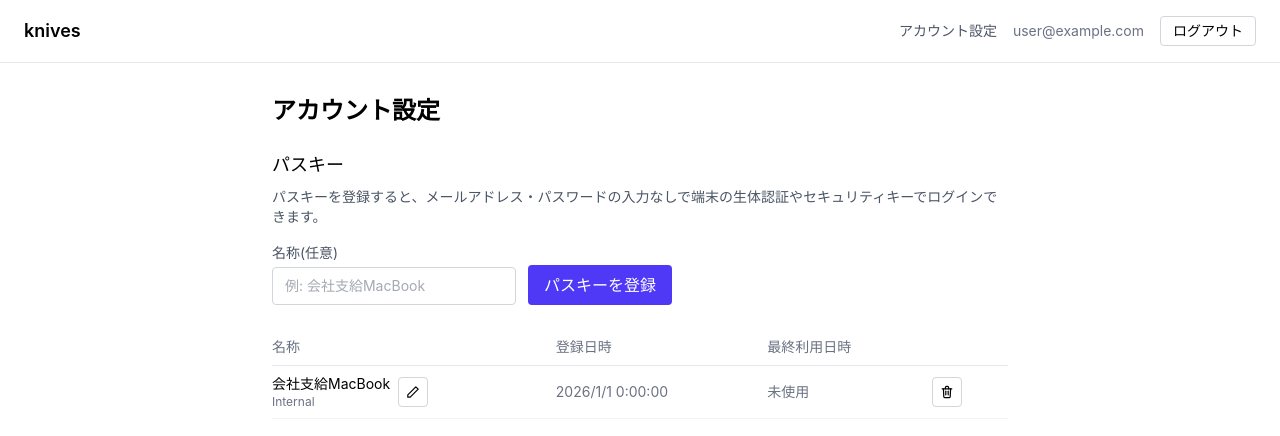
AccountSettingsPage › renames a passkey inline
The width and height of the screenshot is (1280, 436).
Check: the text "会社支給MacBook" is shown, box [272,374,390,394]
Click the button named "編集".
click(413, 392)  # box [398,377,428,407]
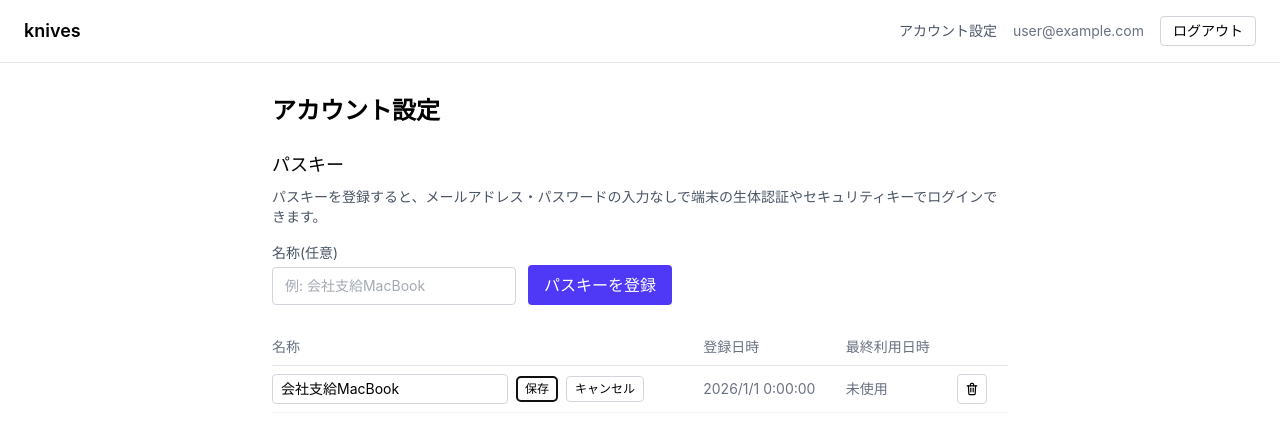
Replace the text in the field named "名称" with "私物MacBook" at {"x": 390, "y": 389}, box [272,374,508,404]
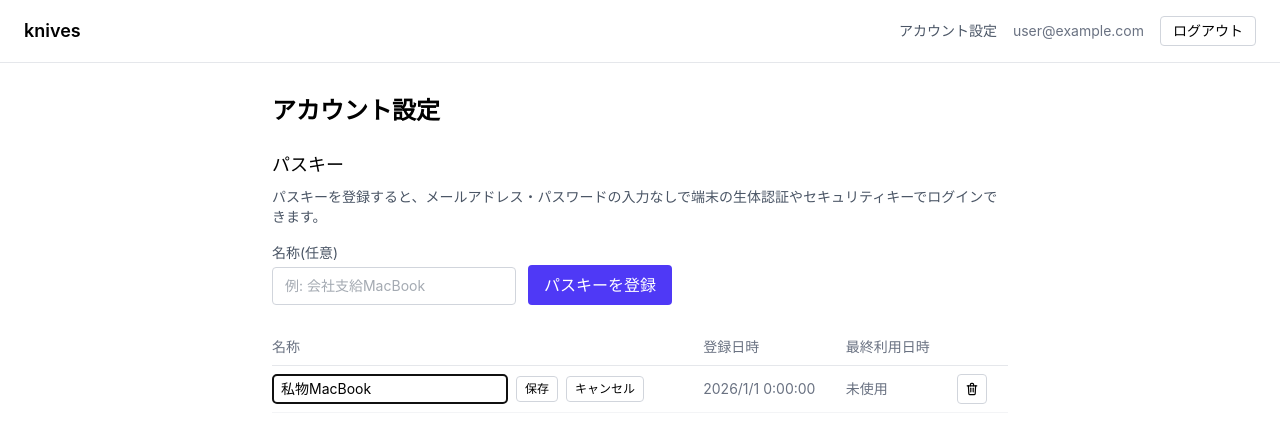
Click the button "保存".
click(537, 389)  # box [516,376,558,402]
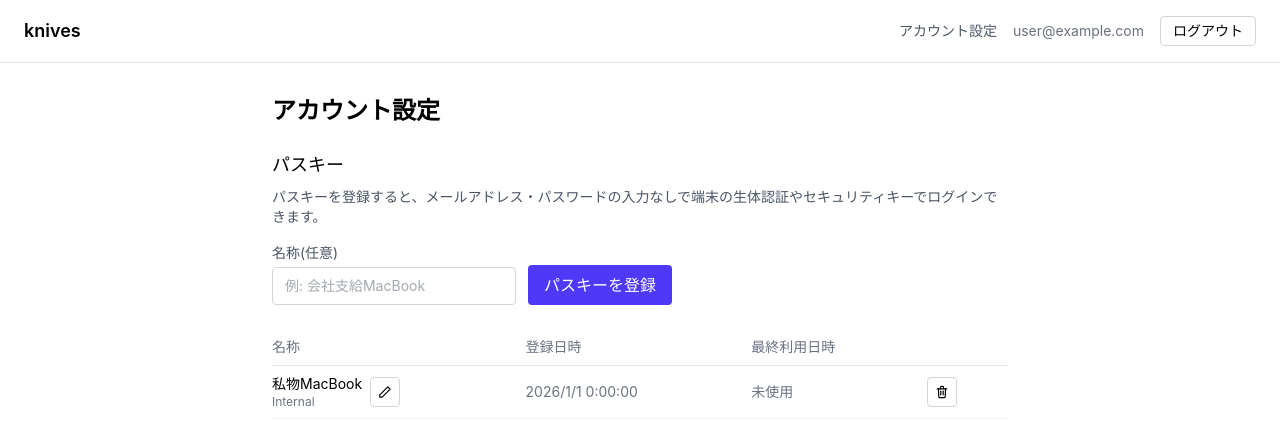
Check: the text "私物MacBook" is shown, box [272,374,362,394]
